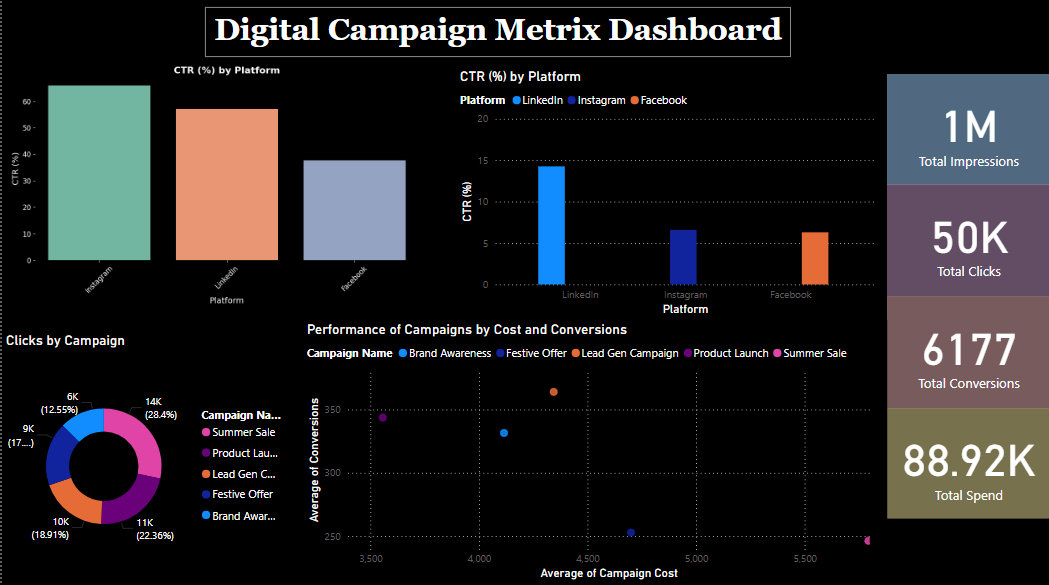

This screenshot's page, from the dashboard's own definition file:
{"tool":"powerbi","page":{"name":"Page 1","canvas":[1280,720],"ordinal":0},"visuals":[{"type":"card","fields":{"Values":["Sum(Campaign_Metrics_Sample.Impressions)"]},"box":[1079.9,96.4,200.1,135.5],"z":0},{"type":"card","fields":{"Values":["Sum(Campaign_Metrics_Sample.Clicks)"]},"box":[1079.9,230.6,200.1,136.7],"z":1000},{"type":"card","fields":{"Values":["Sum(Campaign_Metrics_Sample.Conversions)"]},"box":[1079.9,367.3,200.1,136.7],"z":2000},{"type":"card","fields":{"Values":["Sum(Campaign_Metrics_Sample.Campaign Cost)"]},"box":[1079.9,504,200.1,135.5],"z":3000},{"type":"clusteredColumnChart","title":"CTR (%) by Platform","fields":{"Category":["Campaign_Metrics_Sample.Platform"],"Y":["Avg(Campaign_Metrics_Sample.CTR (%))"],"Series":["Campaign_Metrics_Sample.Platform"]},"box":[554,89.1,516.2,307.5],"z":4000},{"type":"scatterChart","title":"Performance of Campaigns by Cost and Conversions","fields":{"X":["Avg(Campaign_Metrics_Sample.Campaign Cost)"],"Y":["Avg(Campaign_Metrics_Sample.Conversions)"],"Category":["Campaign_Metrics_Sample.Campaign Name"],"Series":["Campaign_Metrics_Sample.Campaign Name"]},"box":[366.1,396.6,713.9,323.4],"z":5000},{"type":"donutChart","title":"Clicks by Campaign","fields":{"Category":["Campaign_Metrics_Sample.Campaign Name"],"Y":["Sum(Campaign_Metrics_Sample.Clicks)"]},"box":[0,411.3,351.5,308.7],"z":6000},{"type":"pythonVisual","fields":{"Values":["Campaign_Metrics_Sample.Platform","Sum(Campaign_Metrics_Sample.CTR (%))"]},"box":[0,72.5,520.6,321.2],"z":7000},{"type":"textbox","box":[247.7,14.6,715.1,61],"z":8000}]}

Visuals, with their boxes in screenshot pixels (x1, y1, x2, y2), scaled from the page's 1280x720 canvas onto the 1049x585 screenshot:
card - Sum(Campaign_Metrics_Sample.Impressions): l=885, t=78, r=1048, b=188
card - Sum(Campaign_Metrics_Sample.Clicks): l=885, t=187, r=1048, b=298
card - Sum(Campaign_Metrics_Sample.Conversions): l=885, t=298, r=1048, b=410
card - Sum(Campaign_Metrics_Sample.Campaign Cost): l=885, t=410, r=1048, b=520
"CTR (%) by Platform" clusteredColumnChart: l=454, t=72, r=877, b=322
"Performance of Campaigns by Cost and Conversions" scatterChart: l=300, t=322, r=885, b=584
"Clicks by Campaign" donutChart: l=0, t=334, r=288, b=584
pythonVisual - Campaign_Metrics_Sample.Platform x Sum(Campaign_Metrics_Sample.CTR (%)): l=0, t=59, r=427, b=320
textbox: l=203, t=12, r=789, b=61
